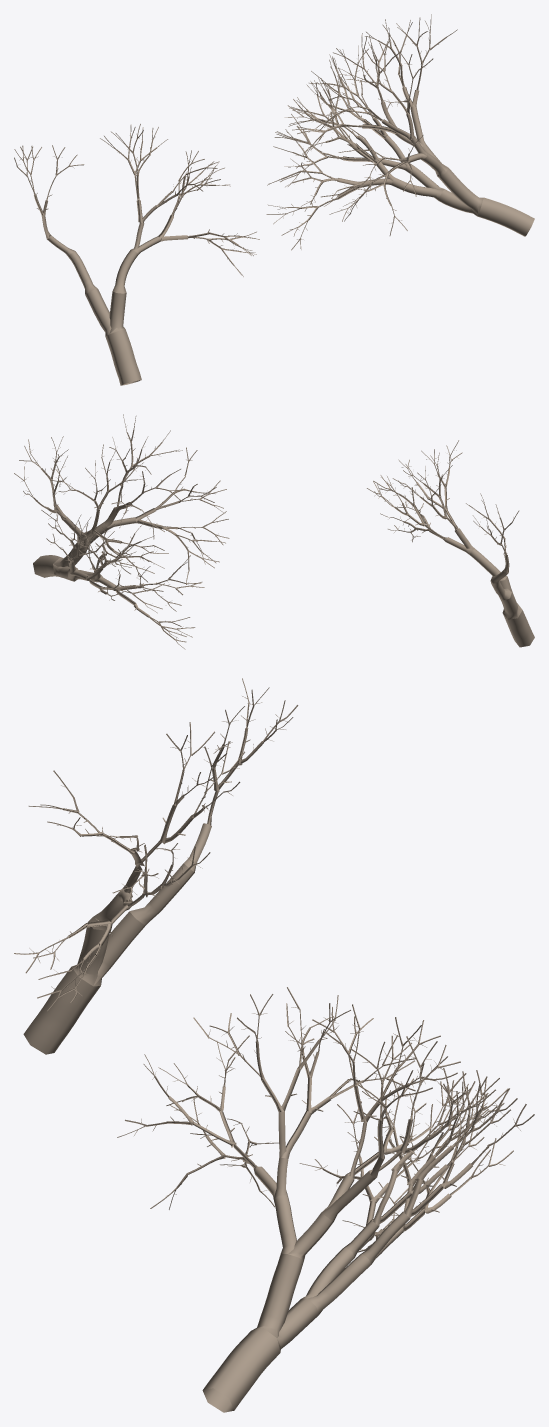
The model's file is Trees.fbx.
3 renders of one model, top to bottom at view 1: azimuth 30°, elevation 25°; view 2: azimuth 150°, elevation 25°; view 3: azimuth 270°, elevation 25°, orthographic. The views are drawn at different scales.
Visible parts, largest first — view 1: treeLeafy4Main, treeLeafy5Main; view 2: treeLeafy4Main, treeLeafy5Main; view 3: treeLeafy4Main, treeLeafy5Main.
Part boxes in pixels (x1=…): treeLeafy4Main: x1=266, y1=14, x2=534, y2=250; treeLeafy5Main: x1=14, y1=124, x2=259, y2=385; treeLeafy4Main: x1=14, y1=414, x2=229, y2=649; treeLeafy5Main: x1=367, y1=440, x2=534, y2=647; treeLeafy4Main: x1=117, y1=987, x2=534, y2=1412; treeLeafy5Main: x1=14, y1=678, x2=298, y2=1054.
Size of the model in its own units: 3.34 by 1.35 by 1.77.
